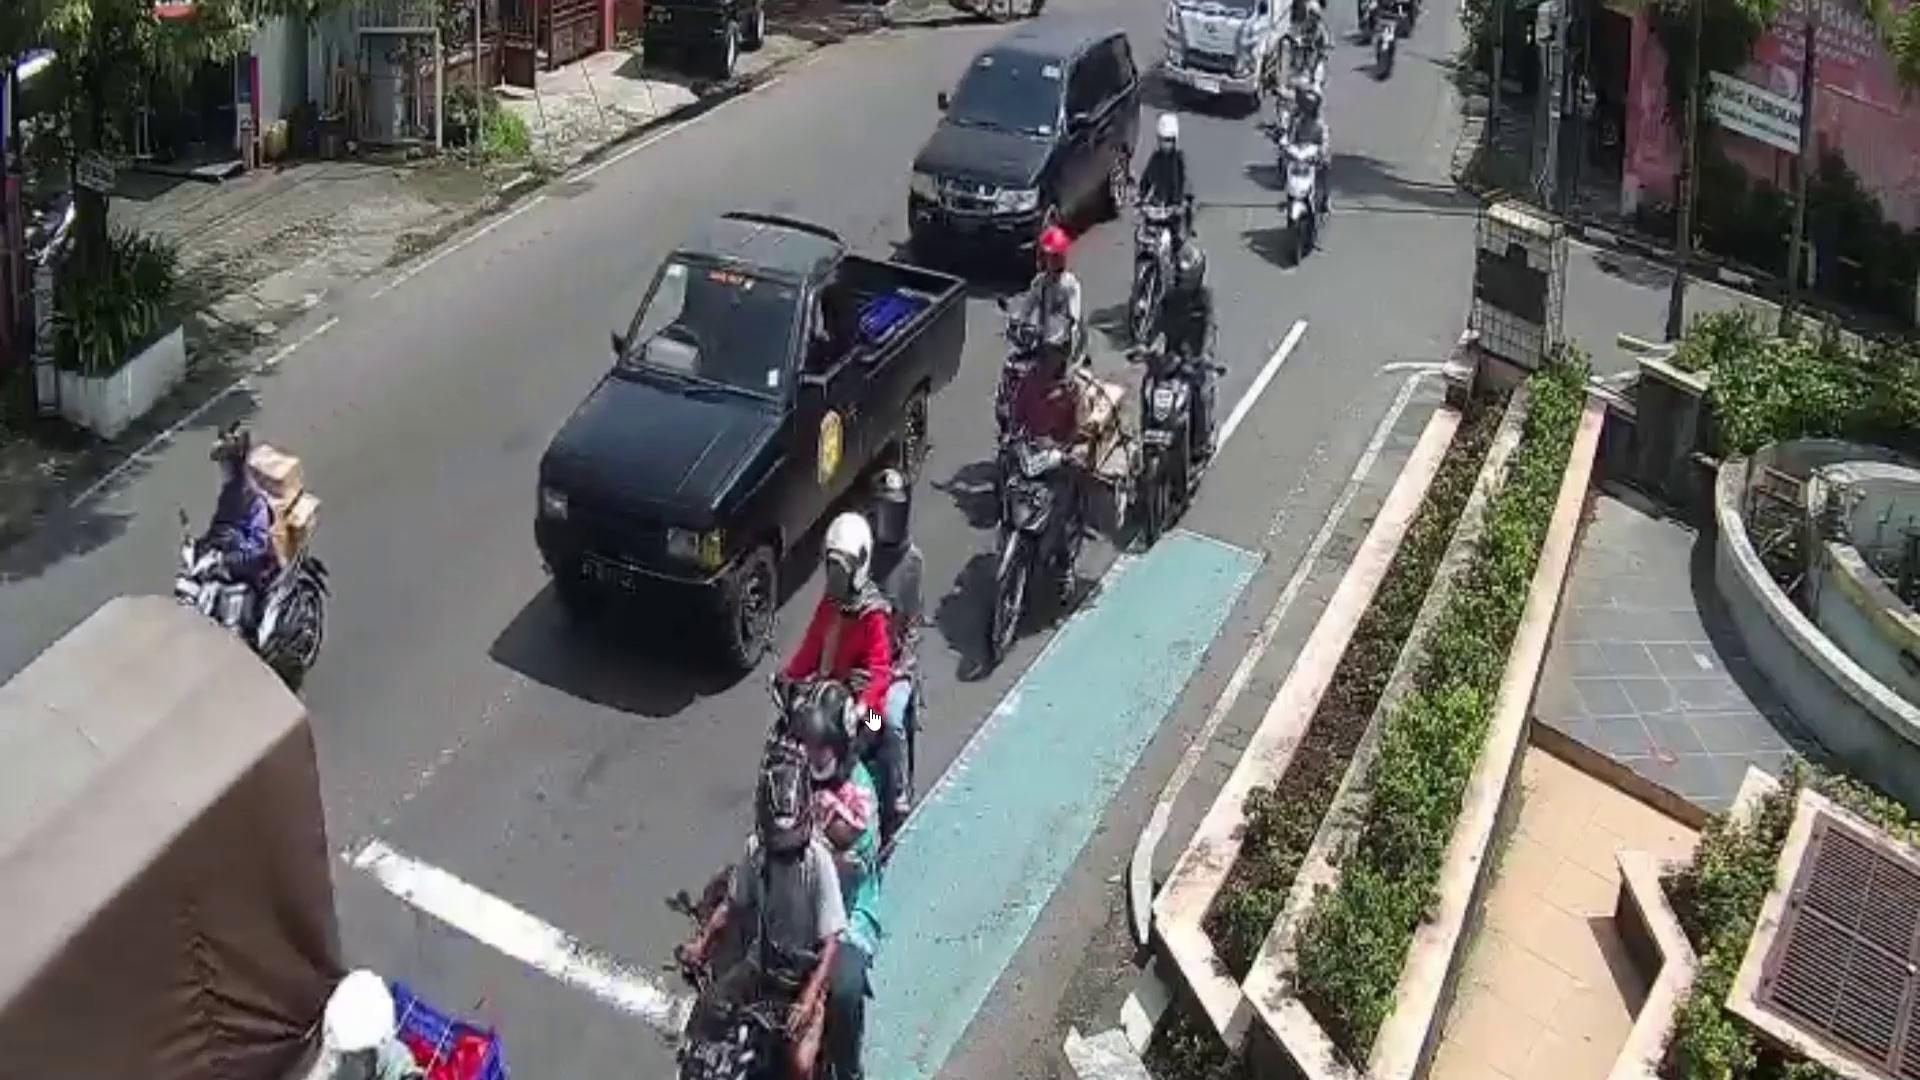car: (535, 214, 965, 662), (911, 20, 1142, 277)
motorbike: (988, 429, 1067, 657), (1133, 352, 1187, 545), (1274, 132, 1327, 266), (1134, 196, 1179, 343)
truck: (1158, 0, 1294, 107)
